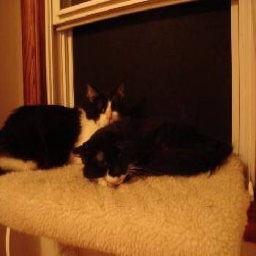cat: (1, 83, 232, 188)
